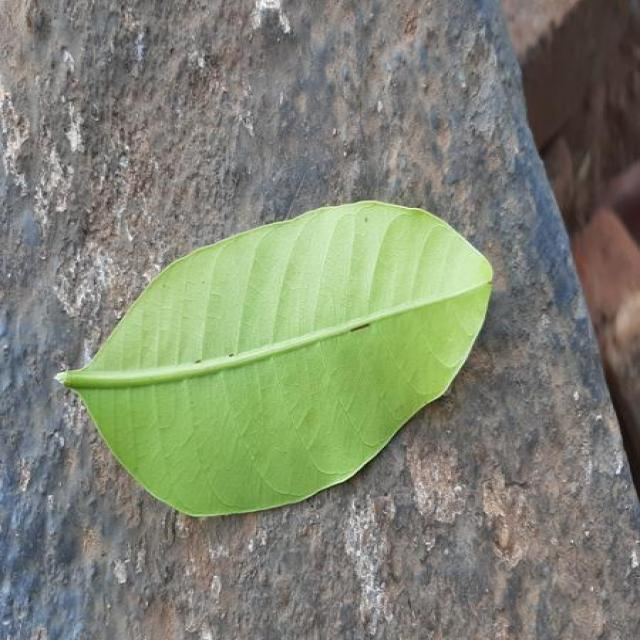mango: (57, 201, 492, 516)
